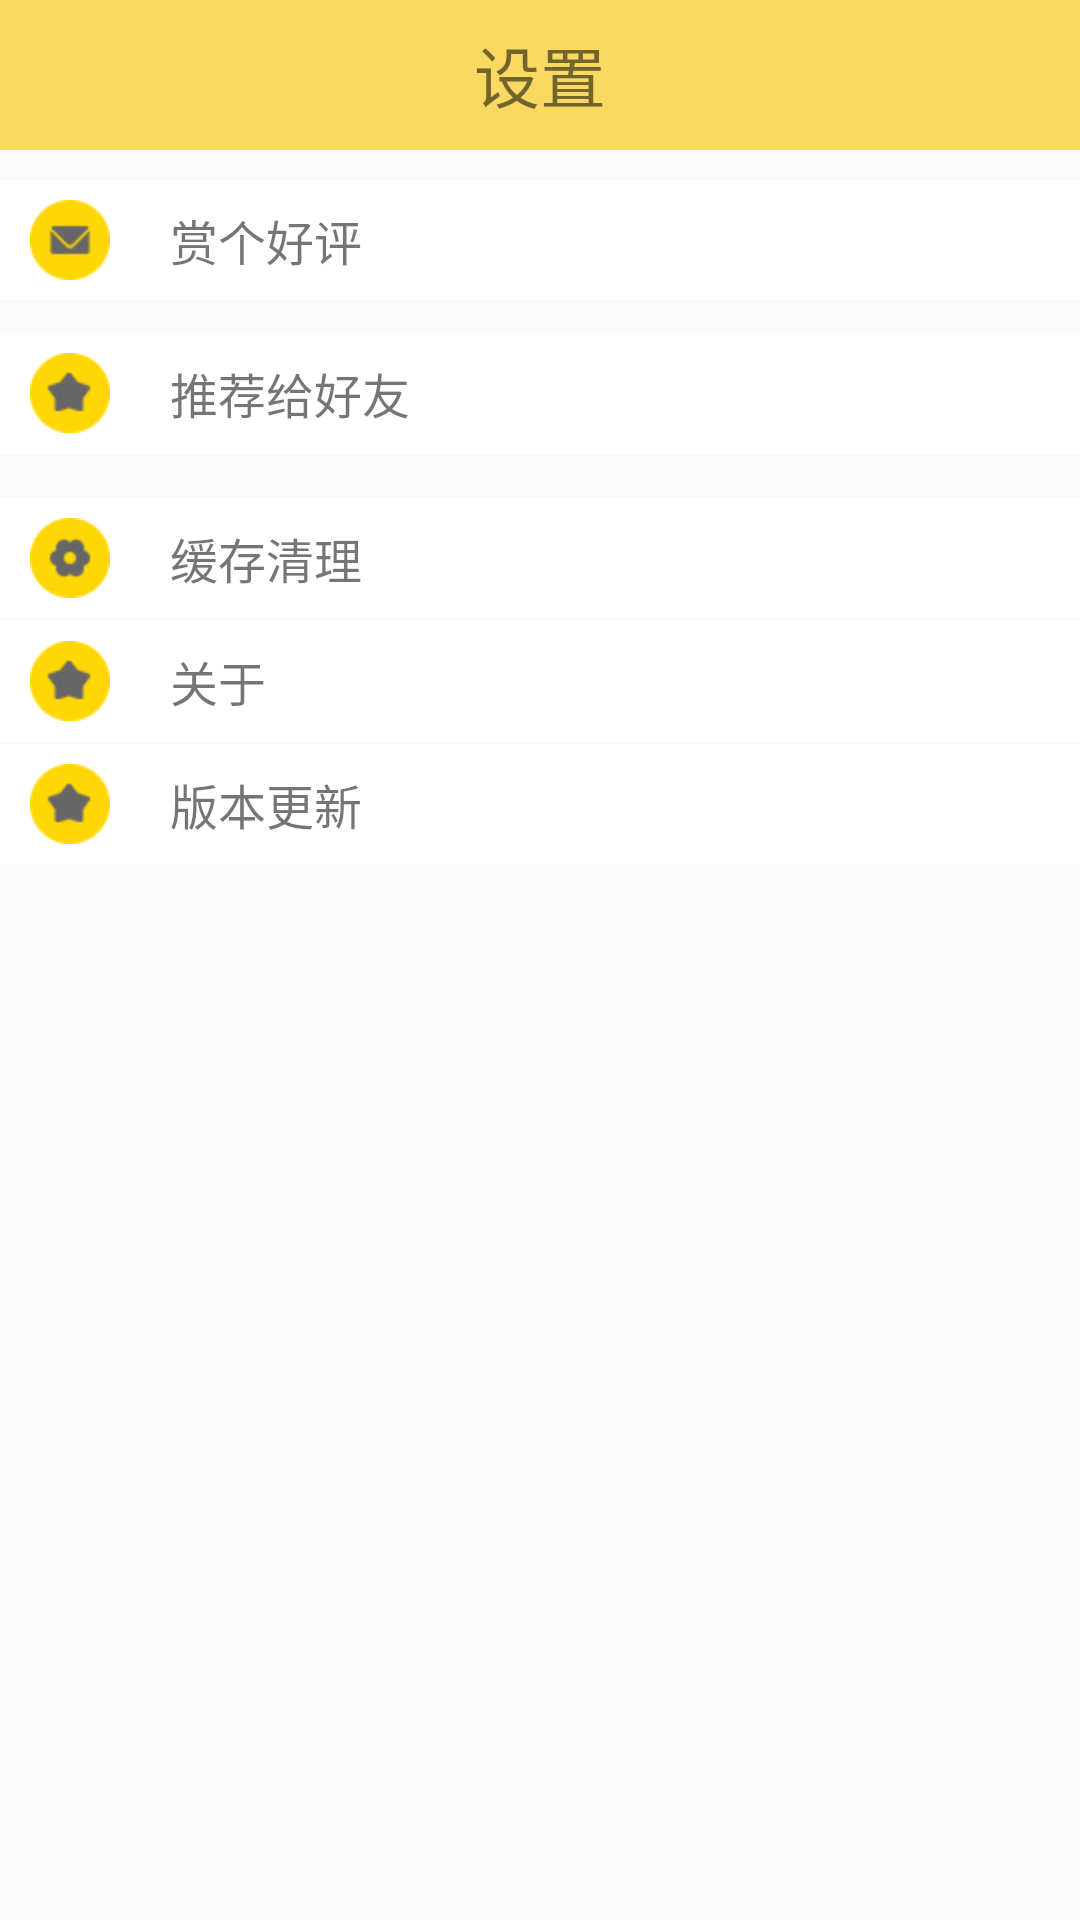

Screen size 1080 x 1920. Icon name, then its center in pixels as [x,y]:
me item collection: [70,393], [70,681], [70,804]
me item message: [70,240]
me item setup: [70,558]
